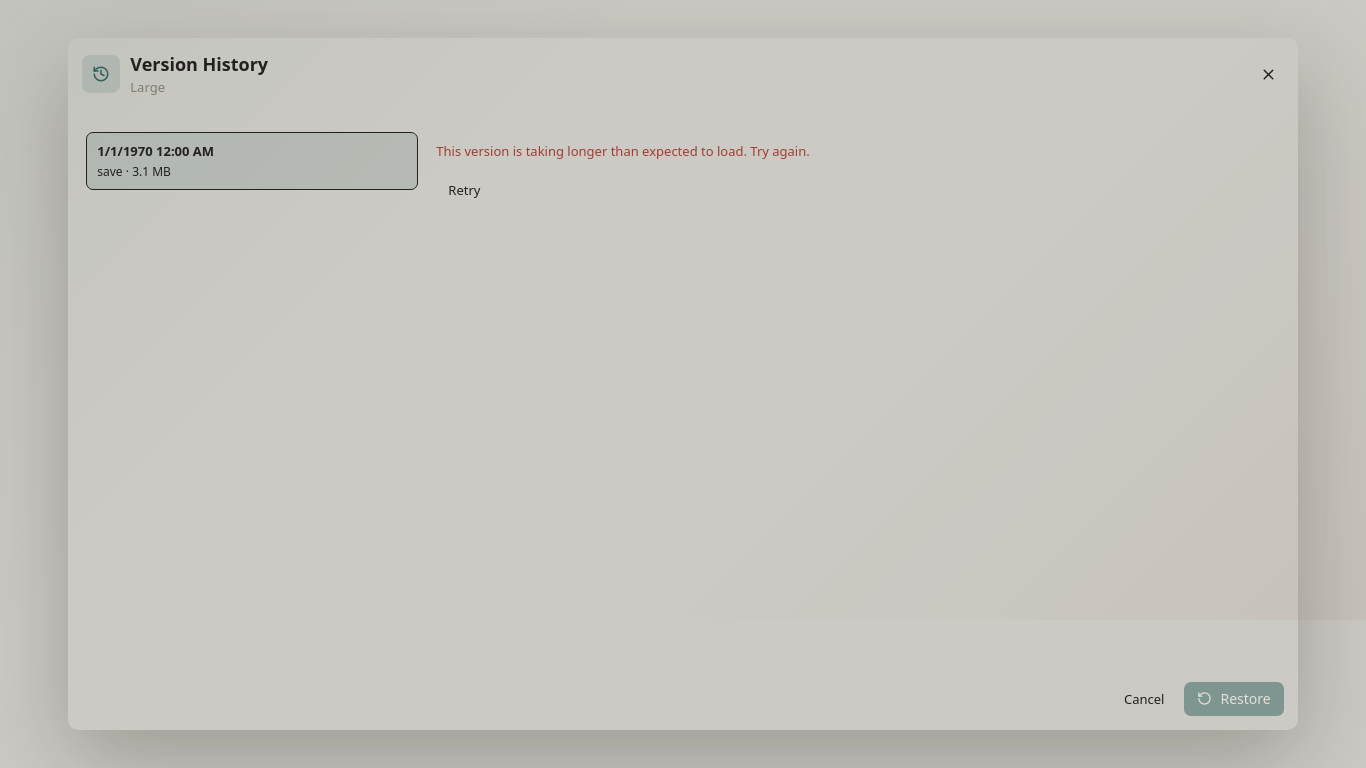
stops a stalled preview and retries without reloading the version list
This screenshot has width=1366, height=768.
Click the button "Retry": (464, 190) 436,173 -> 492,207
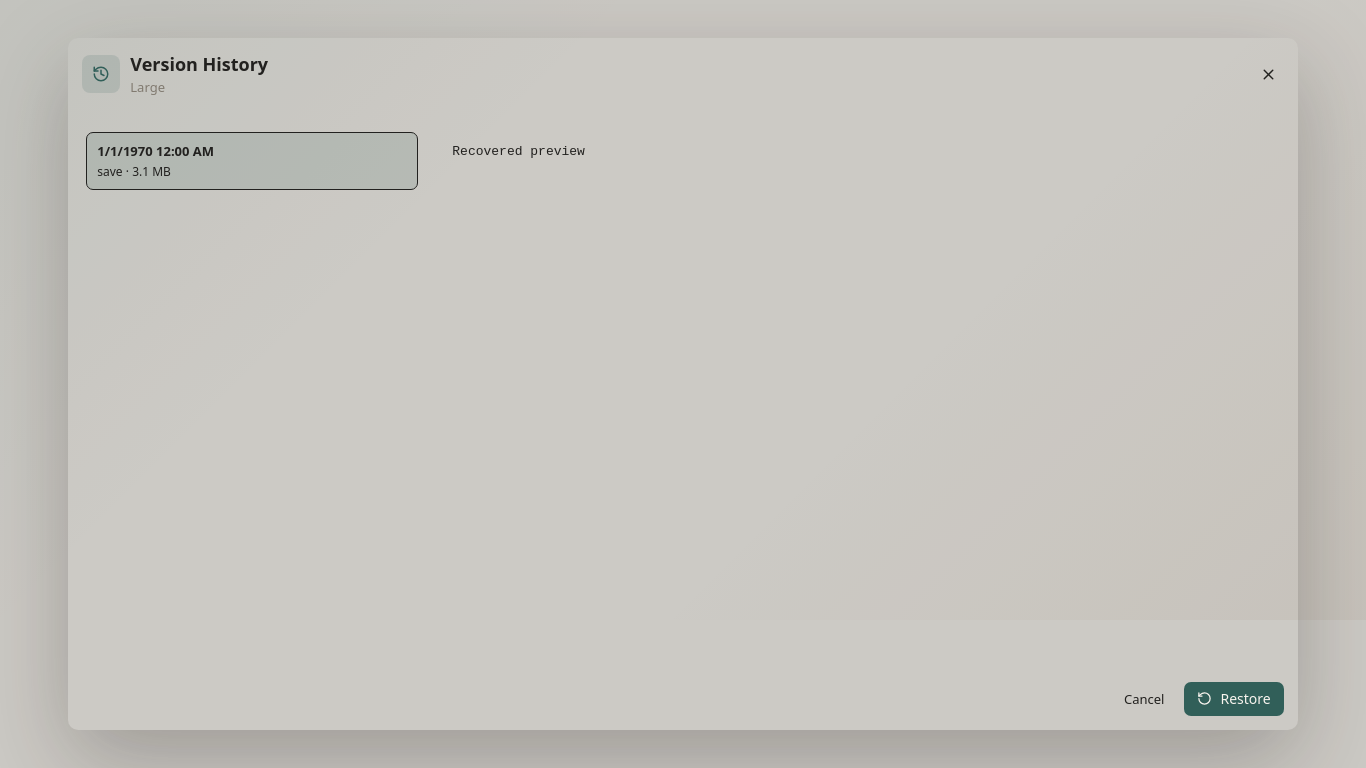
Expected: the text "Recovered preview" is shown, 452,144 -> 585,159
